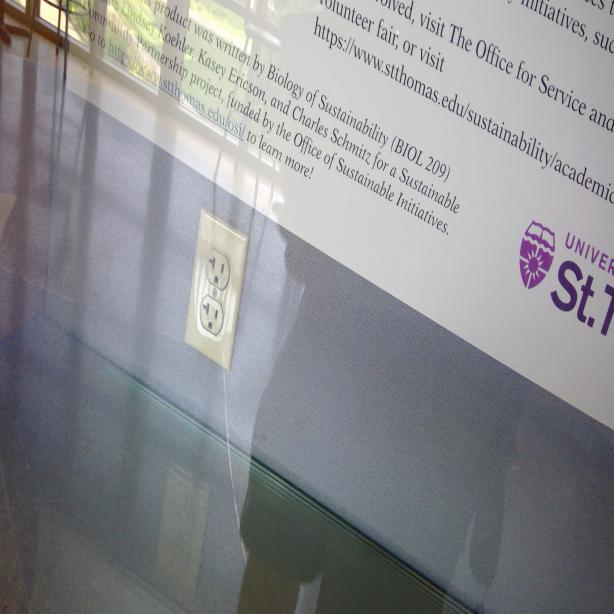typeb: (206, 250, 230, 289), (201, 299, 222, 332)
